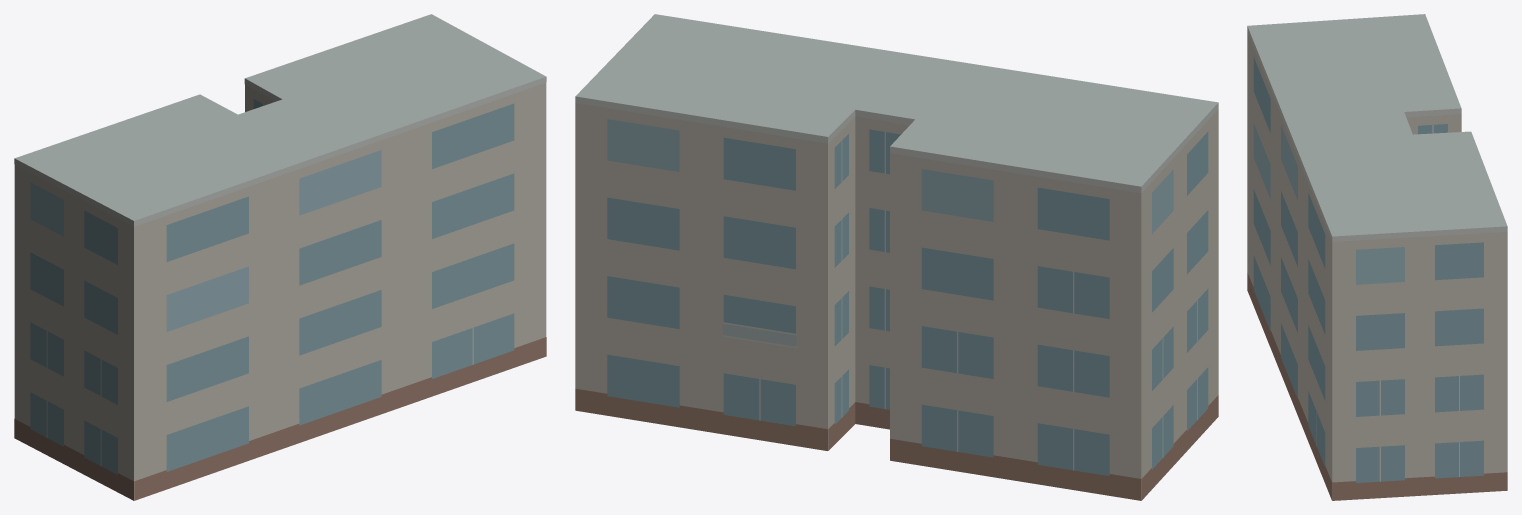
Rendered from survey-upis-32971533.glb.
3 views of the same model, side by side, from view 1: azimuth 30°, elevation 25°; view 2: azimuth 150°, elevation 25°; view 3: azimuth 270°, elevation 25° (orthographic). The views are drawn at different scales.
Visible parts, largest first — view 1: survey-upis-32971533.tmp; view 2: survey-upis-32971533.tmp; view 3: survey-upis-32971533.tmp.
Boxes of the visible parts, x1,y1,x2,y2 form: survey-upis-32971533.tmp: (14,14,546,500); survey-upis-32971533.tmp: (575,14,1218,500); survey-upis-32971533.tmp: (1247,14,1507,500).
Bounding box in the file's own units: 21.04 × 11.65 × 10.41.
